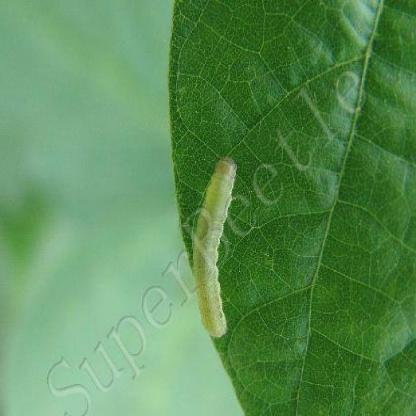armyworm: (184, 152, 244, 348)
